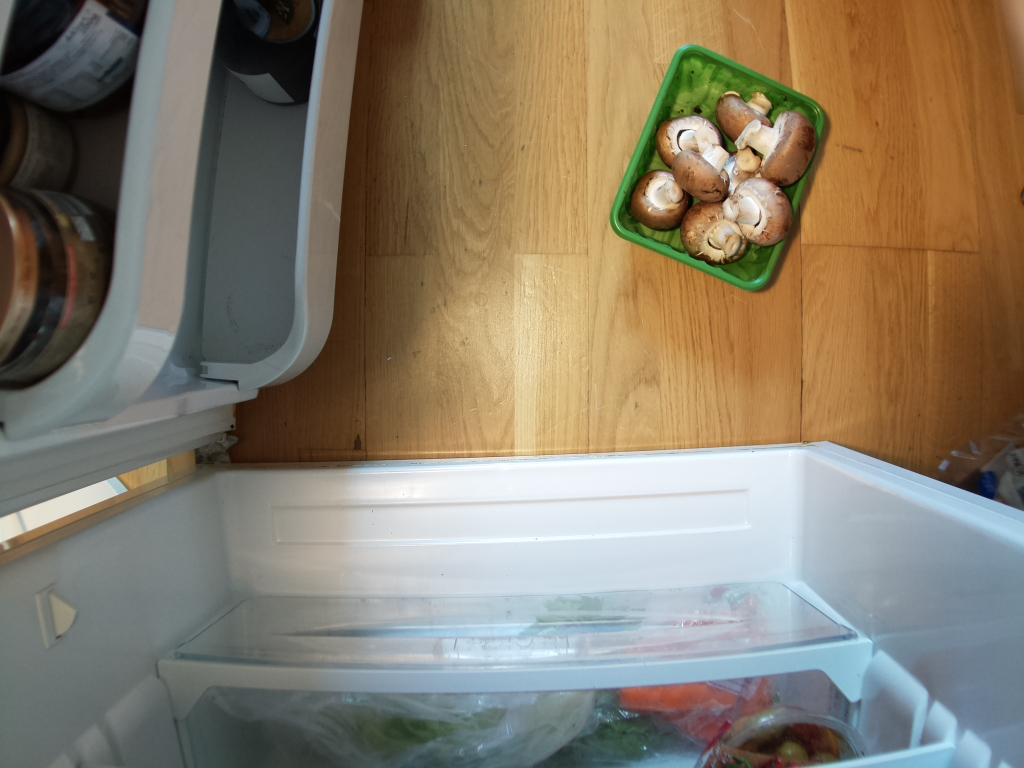mushrooms: (608, 42, 829, 293)
